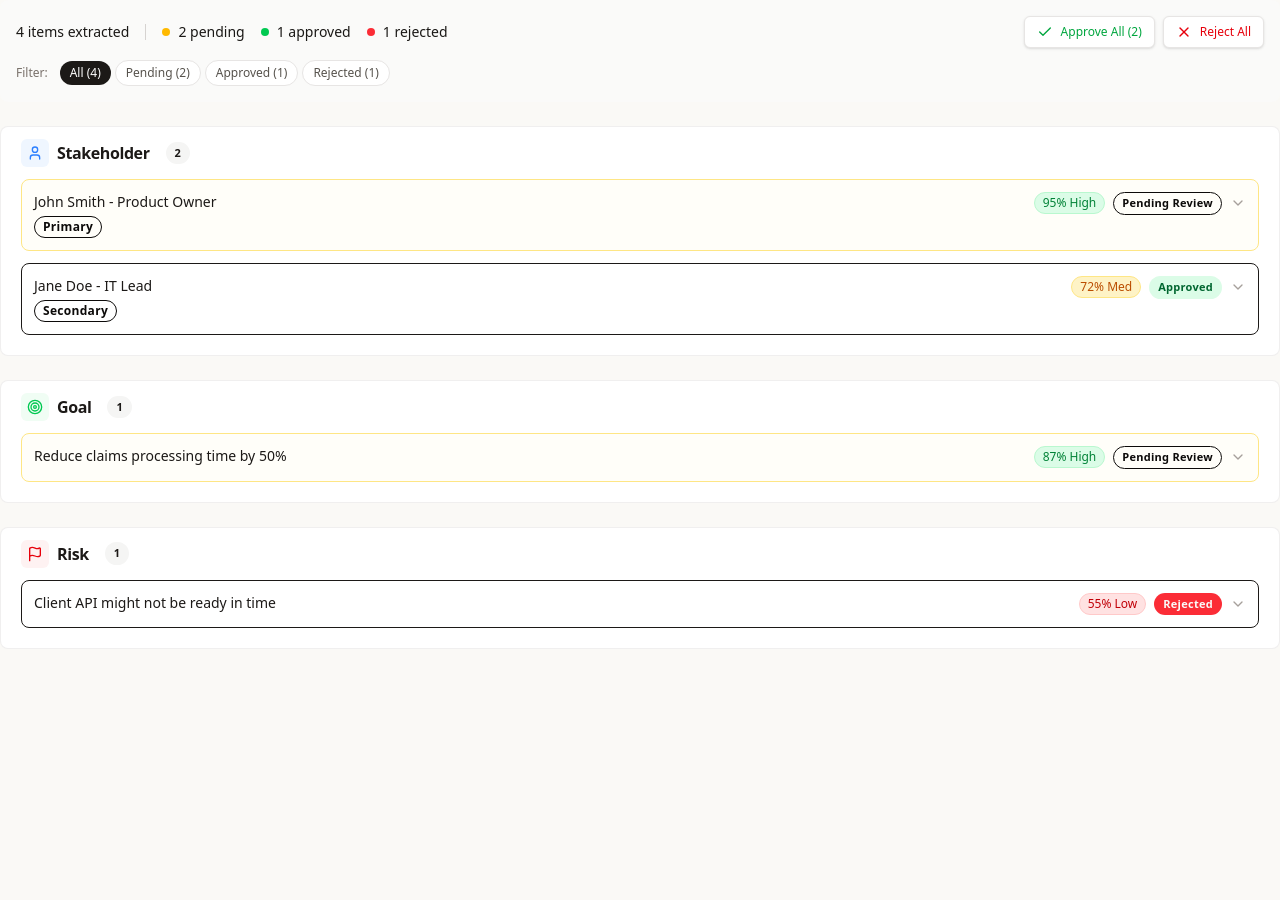
ExtractionReview › filters items when clicking a status filter tab
The image size is (1280, 900).
Expected: the text "John Smith - Product Owner" is shown, [34, 192, 216, 211]
Note: Click "Approved" filter
Click the button "Approved (1)".
click(252, 73)  # box [205, 60, 298, 86]
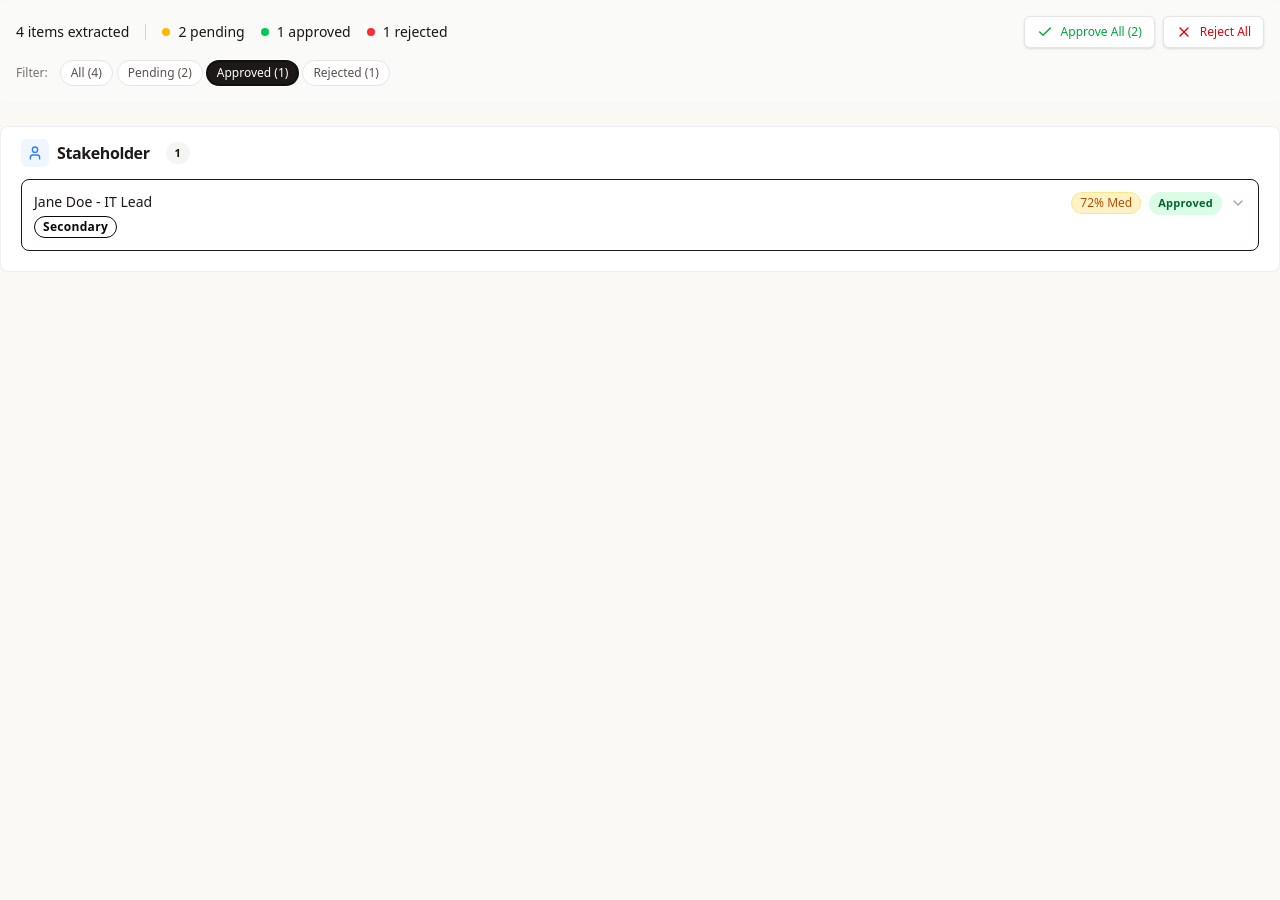
Expected: the text "Jane Doe - IT Lead" is shown, [34, 192, 152, 211]
Now the button "John Smith - Product Owner" is gone
